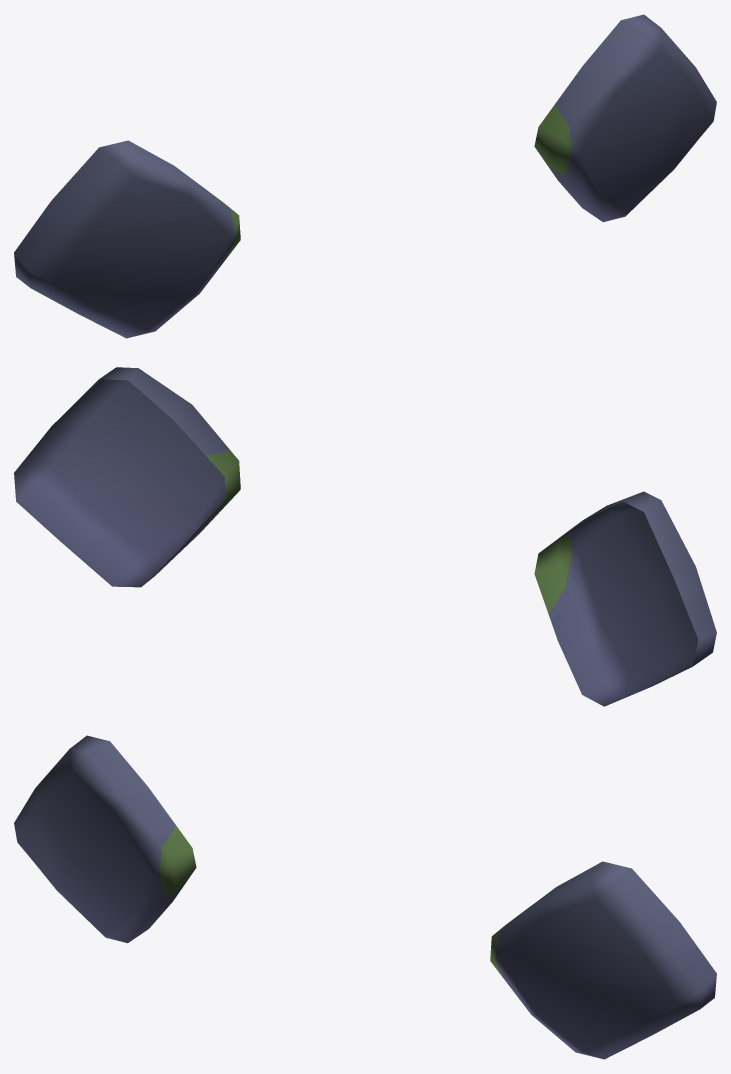
The model's file is CharSkyKid_Prop_CrabFloat.glb.
3 renders of one model, top to bottom at view 1: azimuth 30°, elevation 25°; view 2: azimuth 150°, elevation 25°; view 3: azimuth 330°, elevation 25°, orthographic.
Parts seen in each view (by area): view 1: CharSkyKid_Prop_CrabFloat; view 2: CharSkyKid_Prop_CrabFloat; view 3: CharSkyKid_Prop_CrabFloat.
Boxes of the visible parts, x1=… form: CharSkyKid_Prop_CrabFloat: x1=14, y1=14, x2=716, y2=338; CharSkyKid_Prop_CrabFloat: x1=14, y1=367, x2=716, y2=706; CharSkyKid_Prop_CrabFloat: x1=14, y1=735, x2=716, y2=1059.
Bounding box in the file's own units: 0.8198 × 0.2237 × 0.1055.
Materials: 1 (1 with a texture image).
